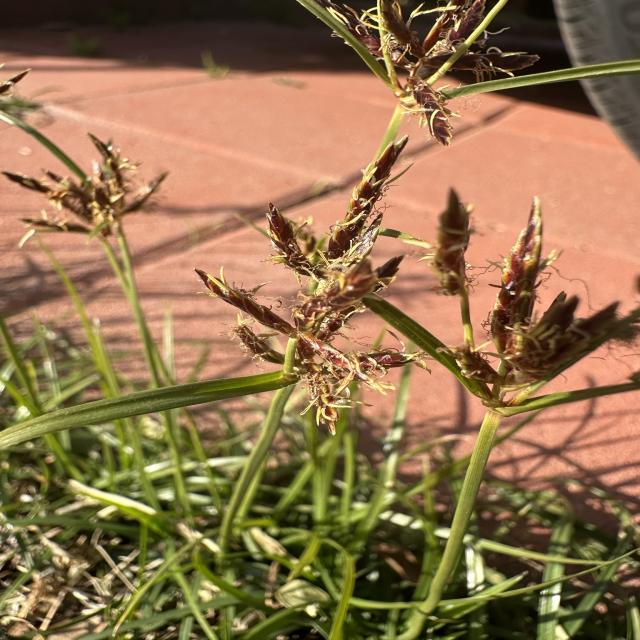cyperus: (186, 0, 555, 424), (371, 181, 640, 416), (0, 62, 180, 250)
